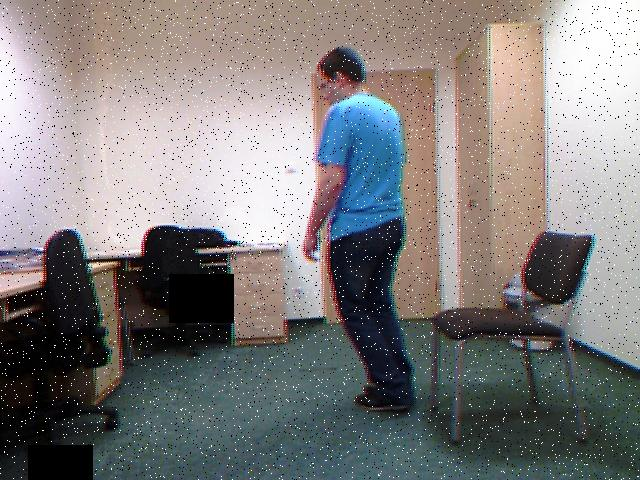standing: (292, 37, 431, 422)
